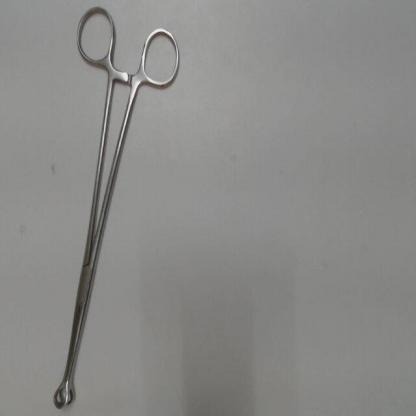8 Babcock Tissue Forceps: (49, 0, 190, 413)
